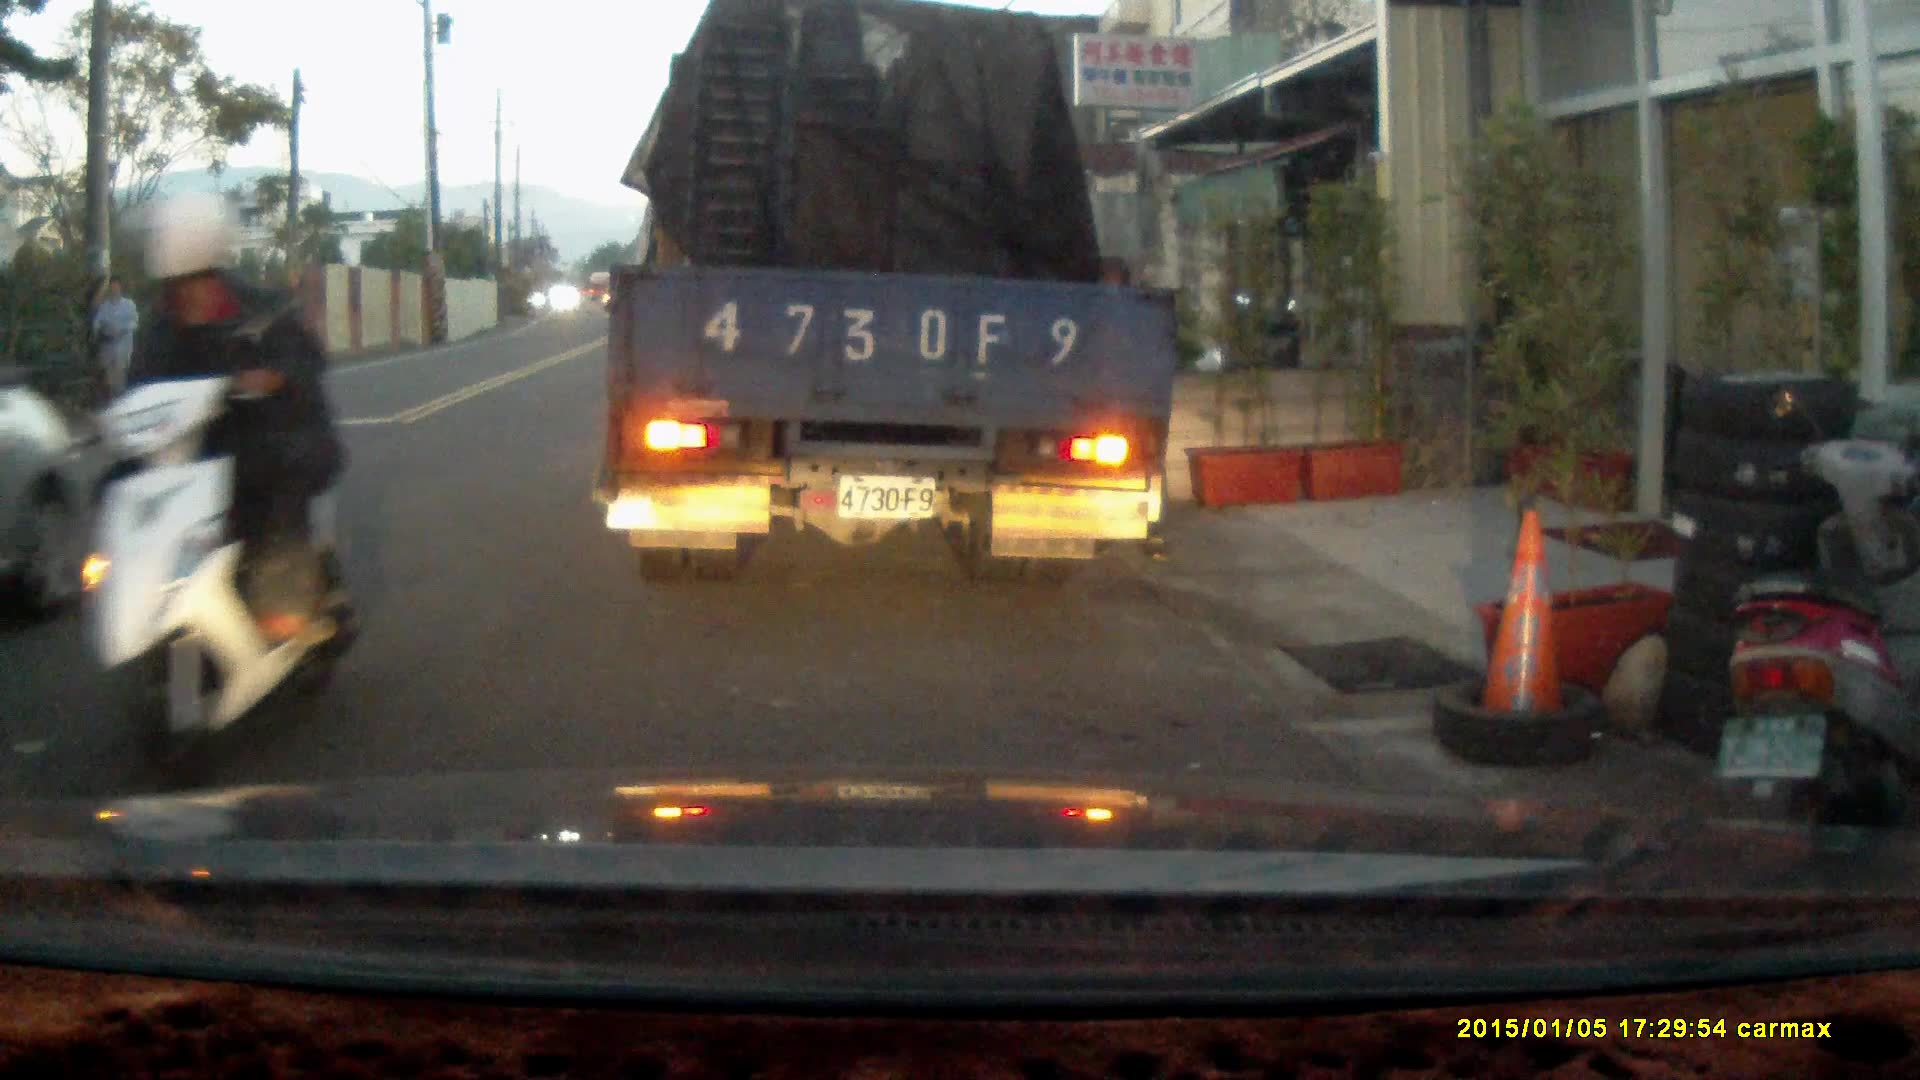pedestrian: (88, 271, 143, 414)
rider: (47, 189, 349, 801)
vehicle: (599, 23, 1186, 572), (1, 372, 97, 618)
